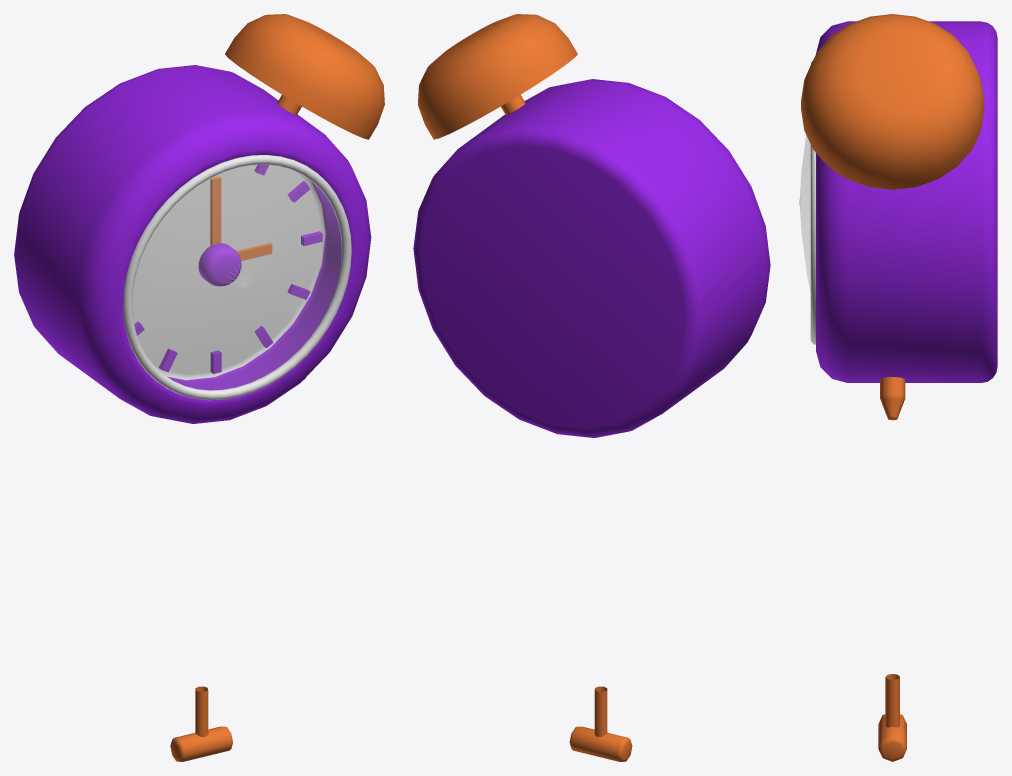
The model's file is clock.glb.
The picture shows the model from 3 angles, left to right: view 1: azimuth 30°, elevation 25°; view 2: azimuth 150°, elevation 25°; view 3: azimuth 270°, elevation 25°; orthographic projection. The views are drawn at different scales.
Visible parts, largest first — view 1: clock, glass, Circle, front ring, hammer, ziffern, knob, Plane.001; view 2: clock, Circle, hammer; view 3: clock, Circle, hammer, glass, front ring, Plane.
Part boxes in pixels (x1,y1,x2,y2): clock: [14, 65, 371, 423]; glass: [132, 164, 341, 389]; Circle: [225, 14, 384, 139]; front ring: [123, 155, 351, 400]; hammer: [170, 686, 232, 761]; ziffern: [134, 164, 322, 373]; knob: [198, 243, 241, 286]; Plane.001: [210, 176, 221, 245]; clock: [413, 79, 770, 437]; Circle: [418, 14, 577, 139]; hammer: [569, 686, 632, 761]; clock: [816, 21, 997, 382]; Circle: [801, 14, 984, 189]; hammer: [878, 674, 906, 761]; glass: [799, 136, 810, 290]; front ring: [810, 61, 815, 344]; Plane: [880, 377, 905, 420].
Bounding box in the file's own units: 2.18 × 4.7 × 1.09.
